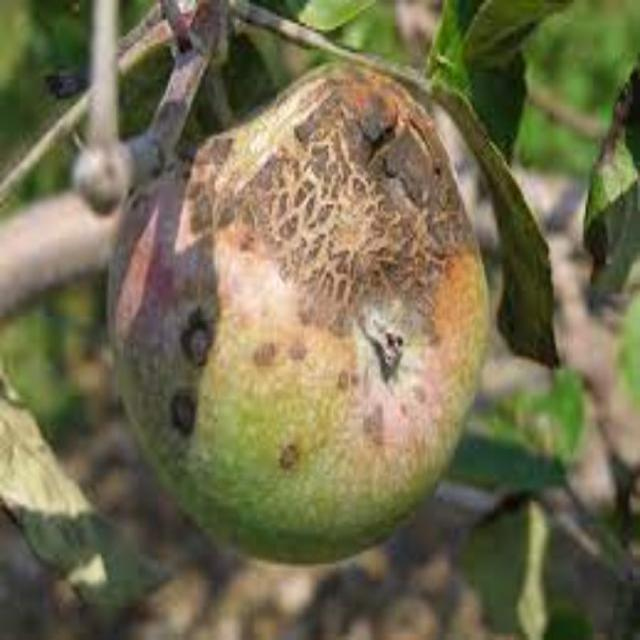Rotten Apple: (100, 62, 540, 592)
